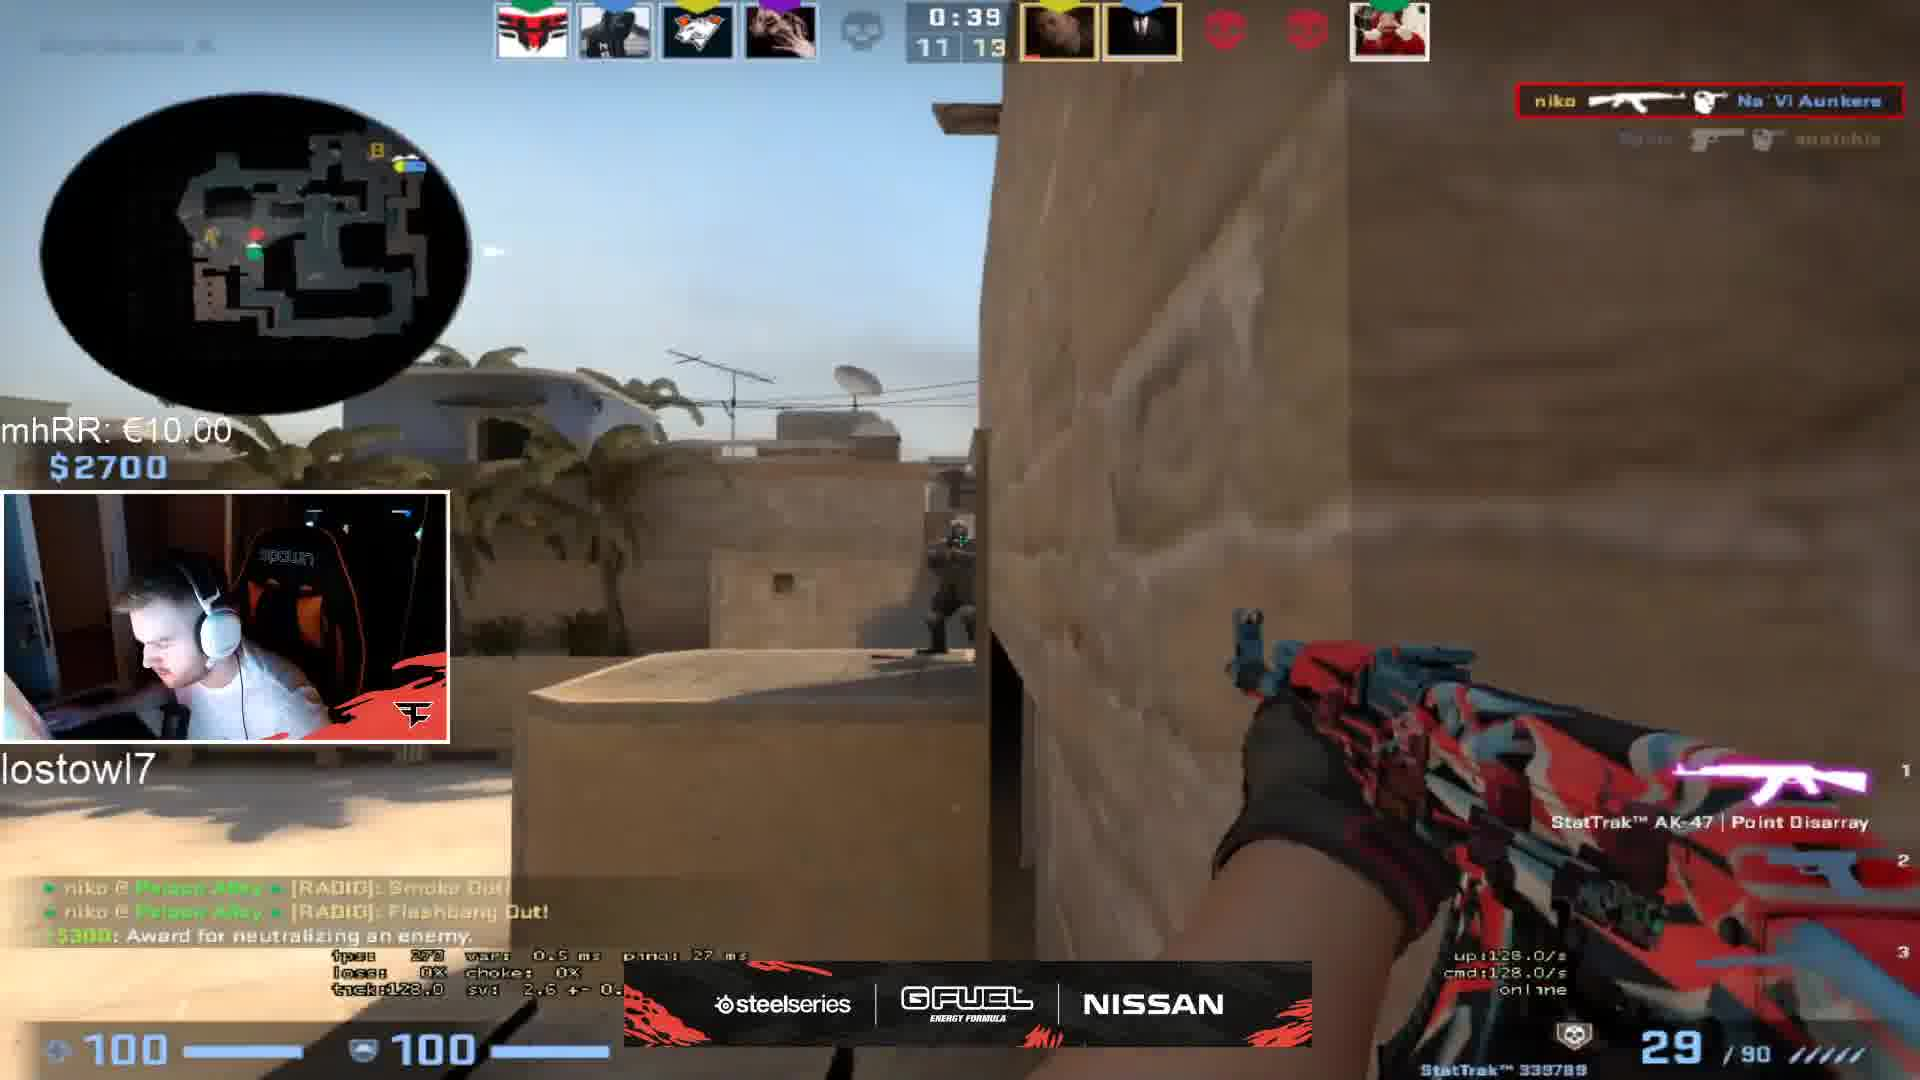enemy: (911, 514, 990, 665)
